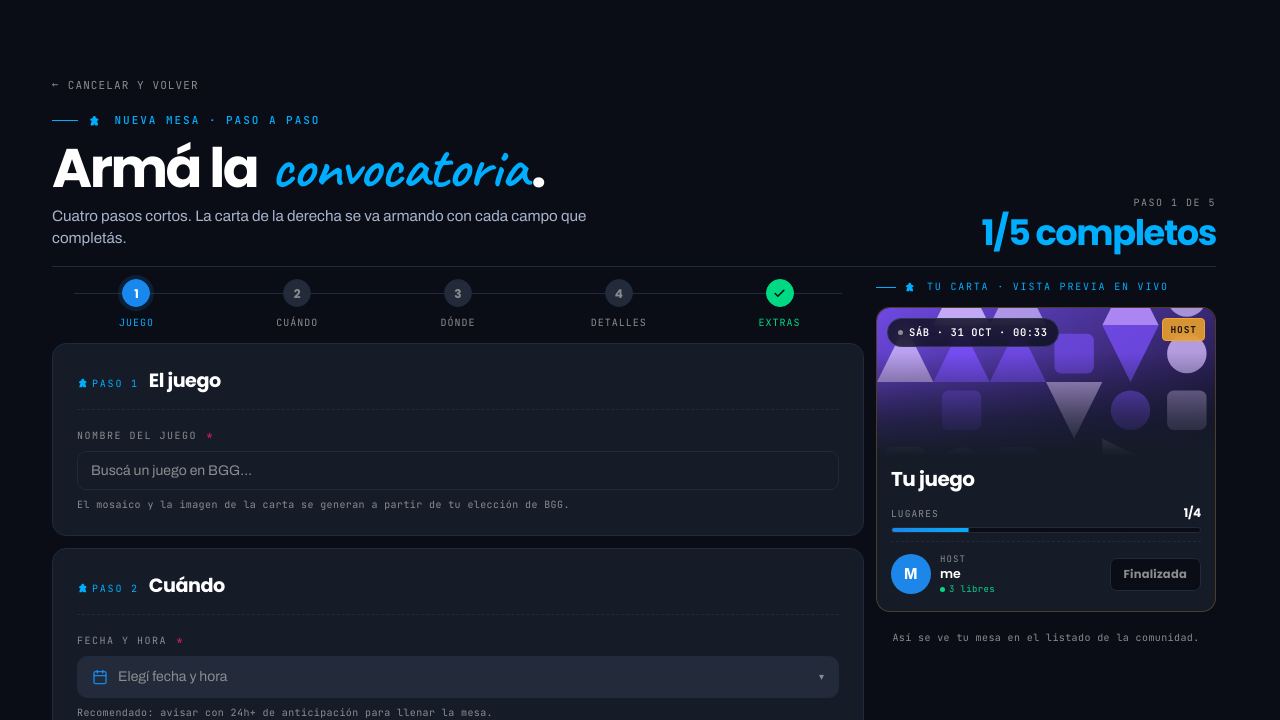
Test: <CreateTable> (standalone — wizard) › selecting a suggestion fills the input
Step 1. Type "Cat" into the field with placeholder "Buscá un juego en BGG…" → {"x": 458, "y": 470}, box [77,451,839,490]
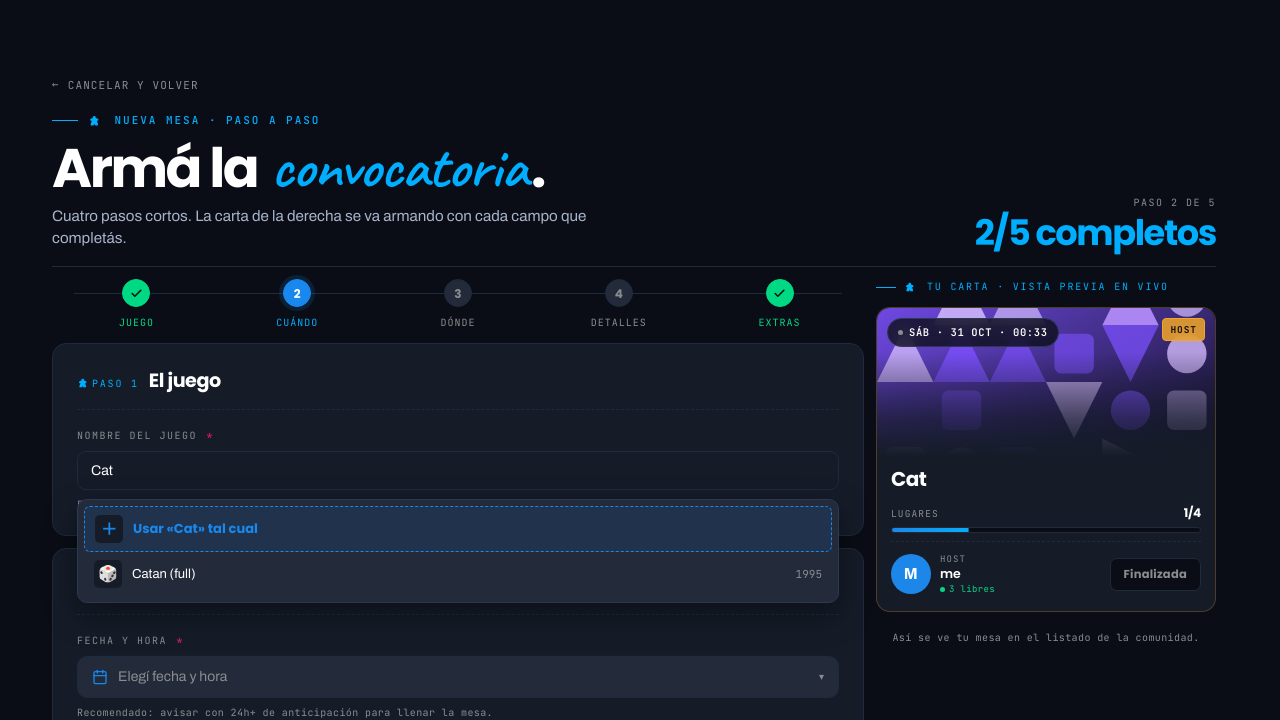
Step 2. Press the mouse on the text "Catan (full)" → {"x": 164, "y": 574}, box [132,567,196,581]
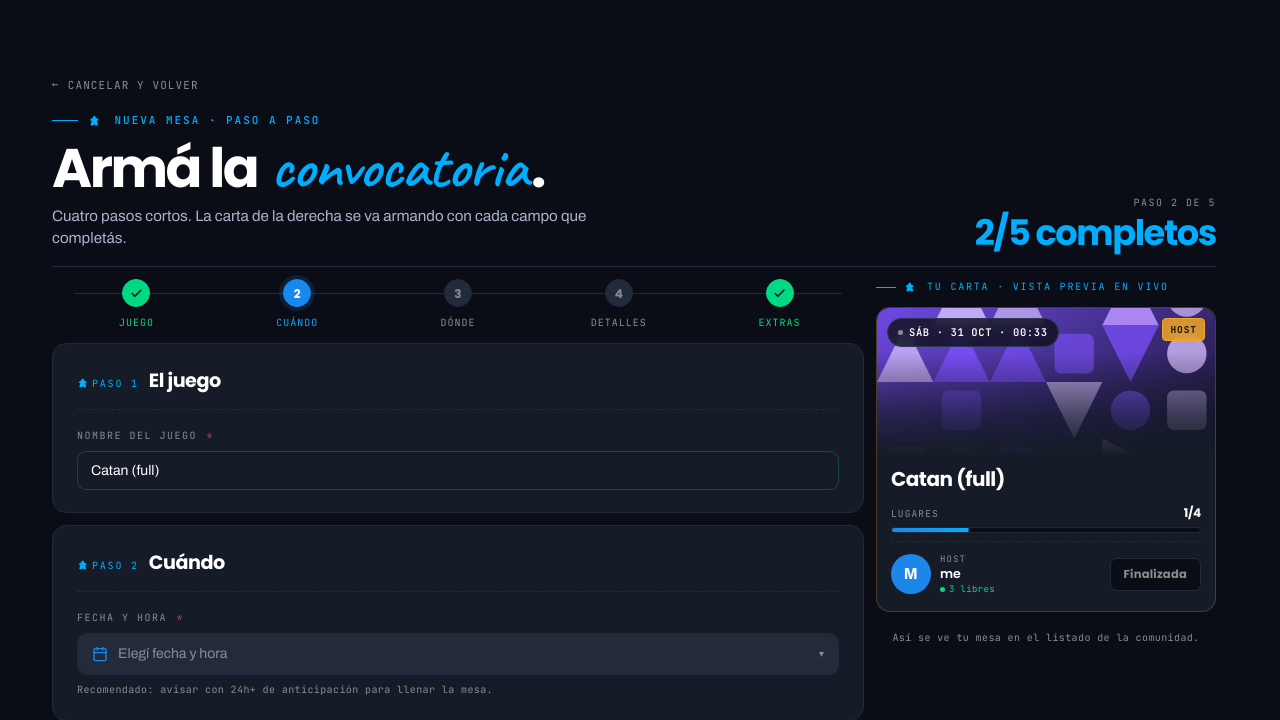
Expected: the field with placeholder "Buscá un juego en BGG…" holds "Catan (full)", [77,451,839,490]
